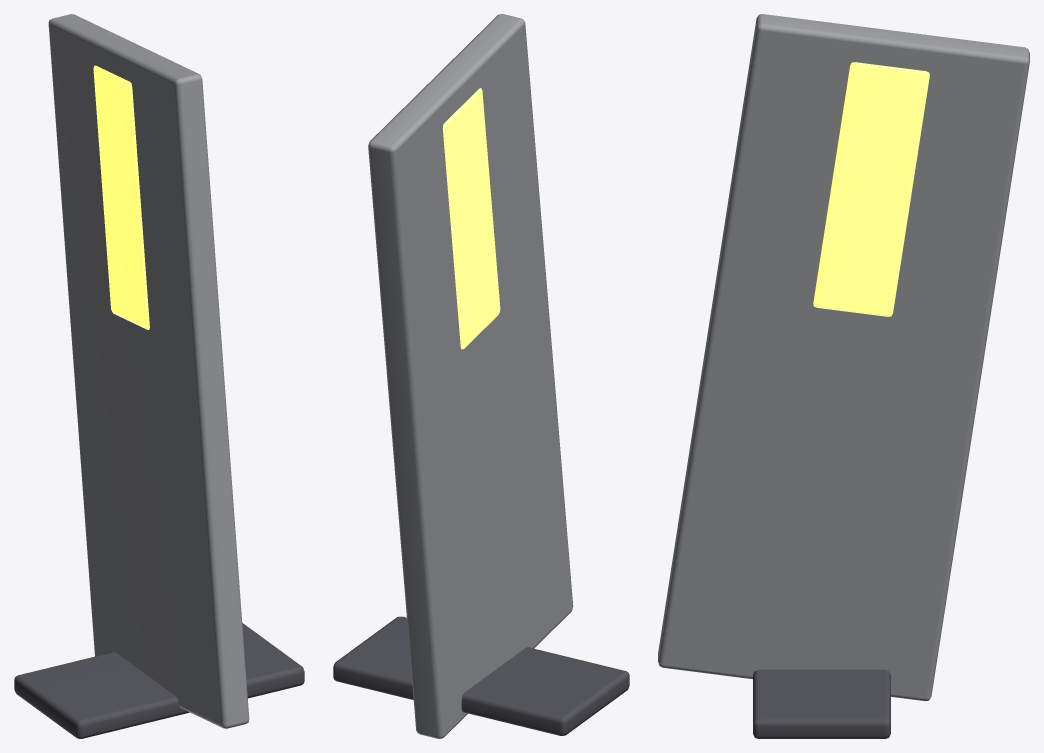
The model's file is mech_kit_antenna_fin.glb.
3 renders of one model, left to right at view 1: azimuth 30°, elevation 25°; view 2: azimuth 150°, elevation 25°; view 3: azimuth 270°, elevation 25°, orthographic. The views are drawn at different scales.
Parts seen in each view (by area): view 1: mech_kit_antenna_fin; view 2: mech_kit_antenna_fin; view 3: mech_kit_antenna_fin.
Part boxes in pixels (<box>): mech_kit_antenna_fin: <box>14,14,304,738</box>; mech_kit_antenna_fin: <box>333,14,629,738</box>; mech_kit_antenna_fin: <box>658,14,1029,738</box>.
Size of the model in its own units: 0.1 by 0.2708 by 0.1347.
